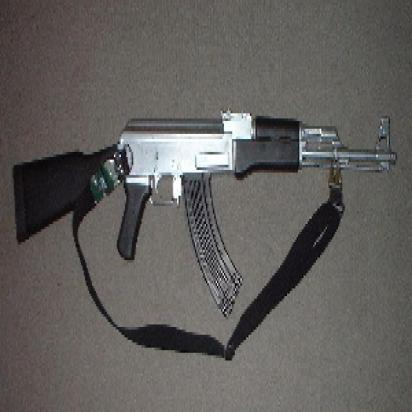Gun: (9, 98, 403, 328)
